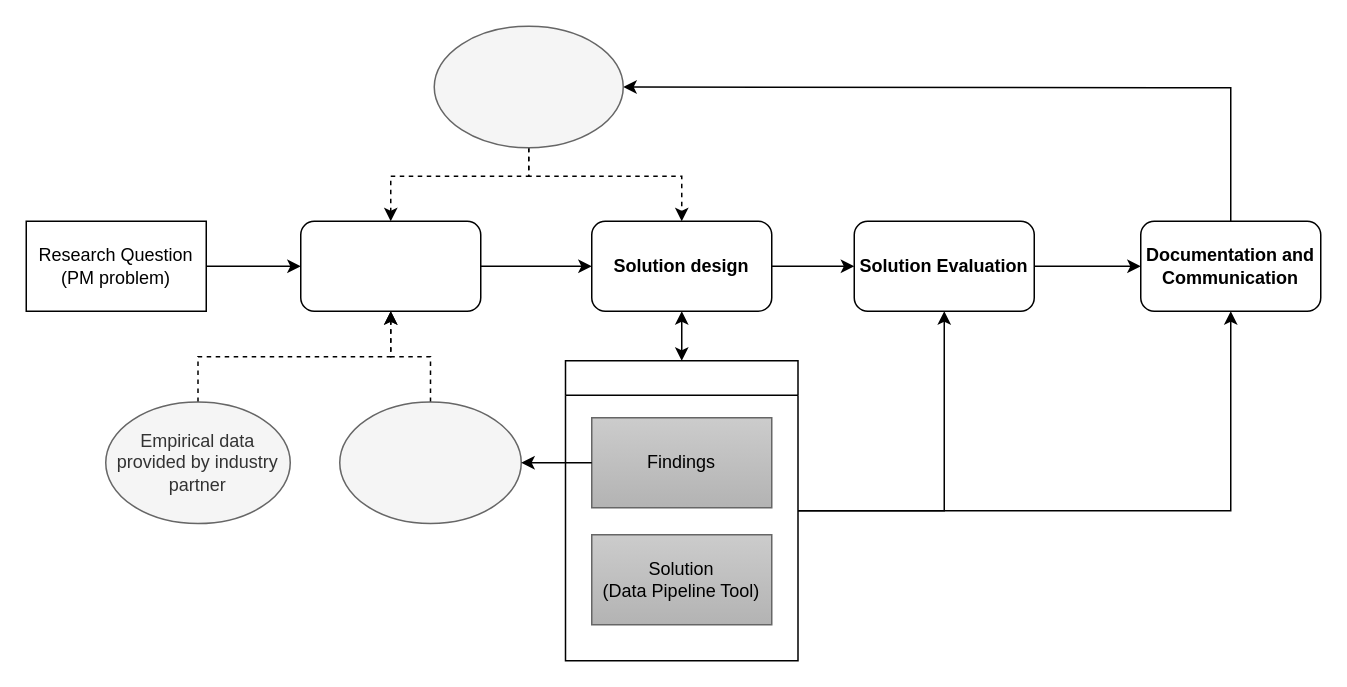
Some shapes in this 1347 by 687 pixel diagram are drawn without their labels. The shapes that lost their labels are listed below. From the top down, each one's box as (x1, y1, x2, y2) in pixels, then its label:
(433, 25, 623, 148): Project Management Context
(299, 220, 481, 311): Problem Analysis
(338, 400, 521, 524): Theoretical knowledge
(564, 359, 798, 661): Research Results
